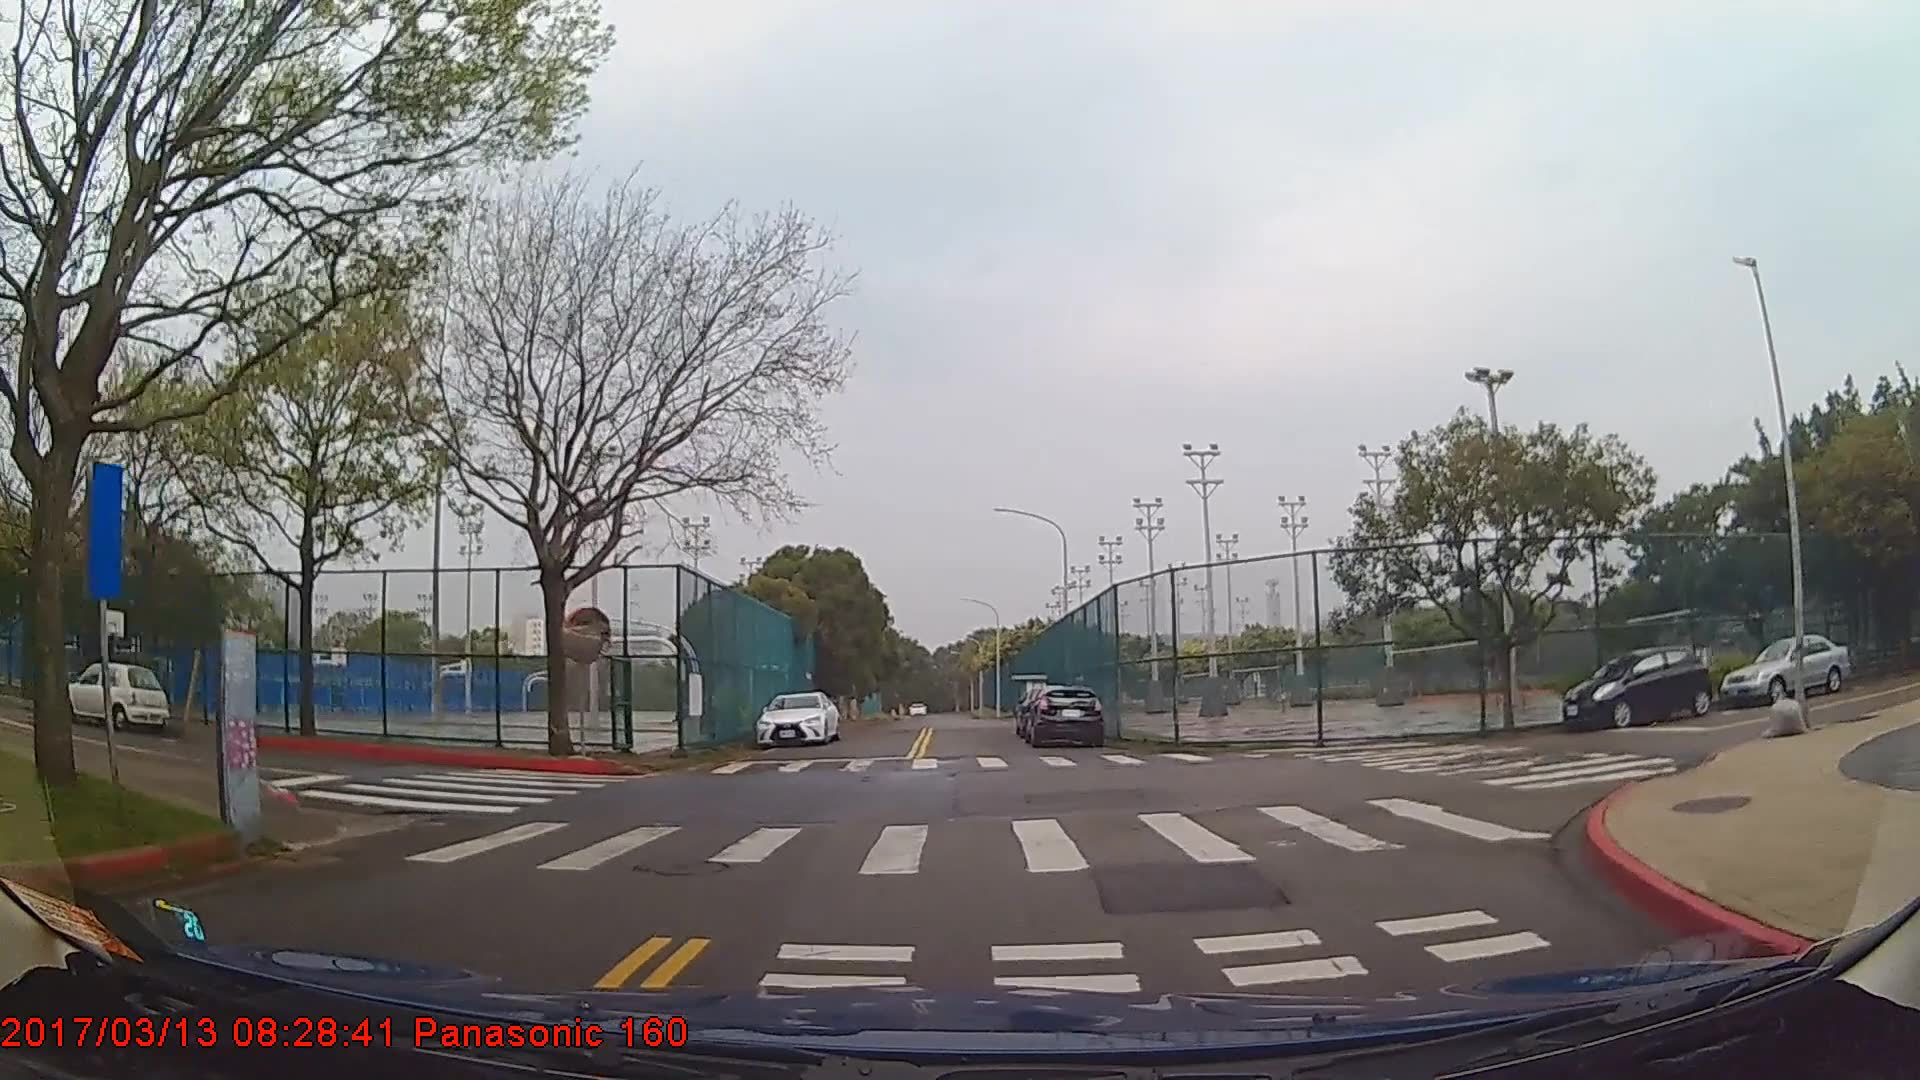vehicle: (1561, 644, 1712, 731), (1720, 636, 1851, 704), (61, 659, 167, 727), (1023, 684, 1102, 749), (756, 688, 839, 746)
